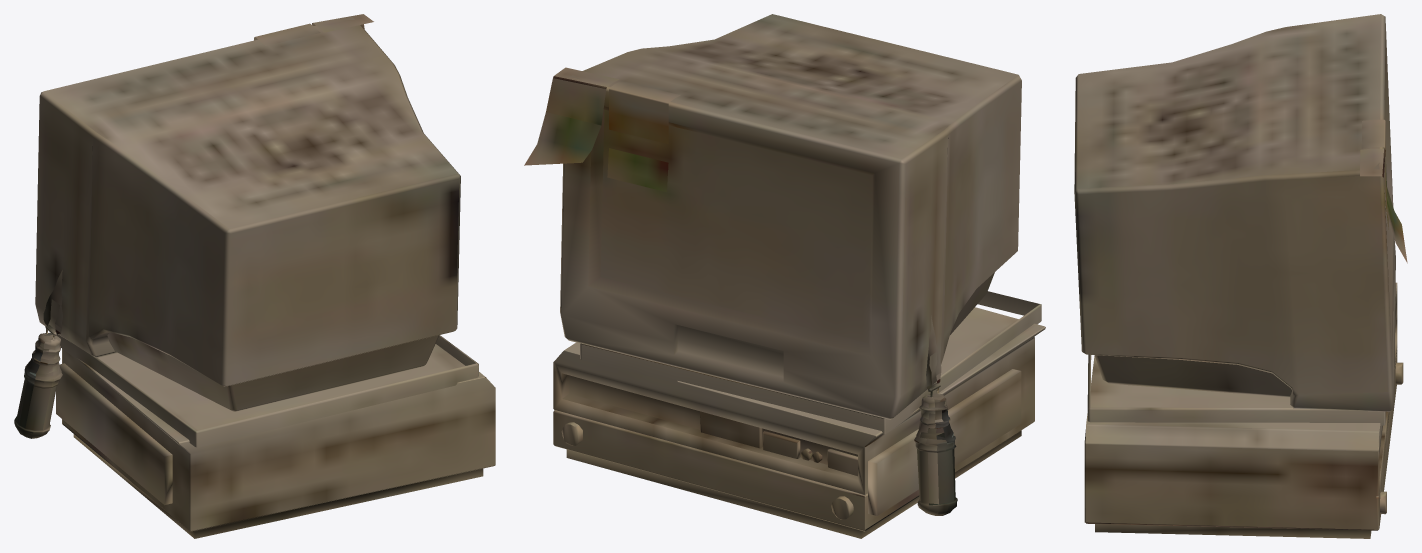
The model's file is OparetionRoom_AI_Prop.037.fbx.
The picture shows the model from 3 angles, left to right: view 1: azimuth 30°, elevation 25°; view 2: azimuth 150°, elevation 25°; view 3: azimuth 270°, elevation 25°; orthographic projection. The views are drawn at different scales.
Visible parts, largest first — view 1: OparetionRoom_AI_Prop.037; view 2: OparetionRoom_AI_Prop.037; view 3: OparetionRoom_AI_Prop.037.
Boxes of the visible parts, bbox=[...] form: OparetionRoom_AI_Prop.037: bbox=[14, 14, 495, 538]; OparetionRoom_AI_Prop.037: bbox=[524, 14, 1045, 538]; OparetionRoom_AI_Prop.037: bbox=[1074, 14, 1407, 538].
Size of the model in its own units: 87.12 by 79.77 by 65.38.
